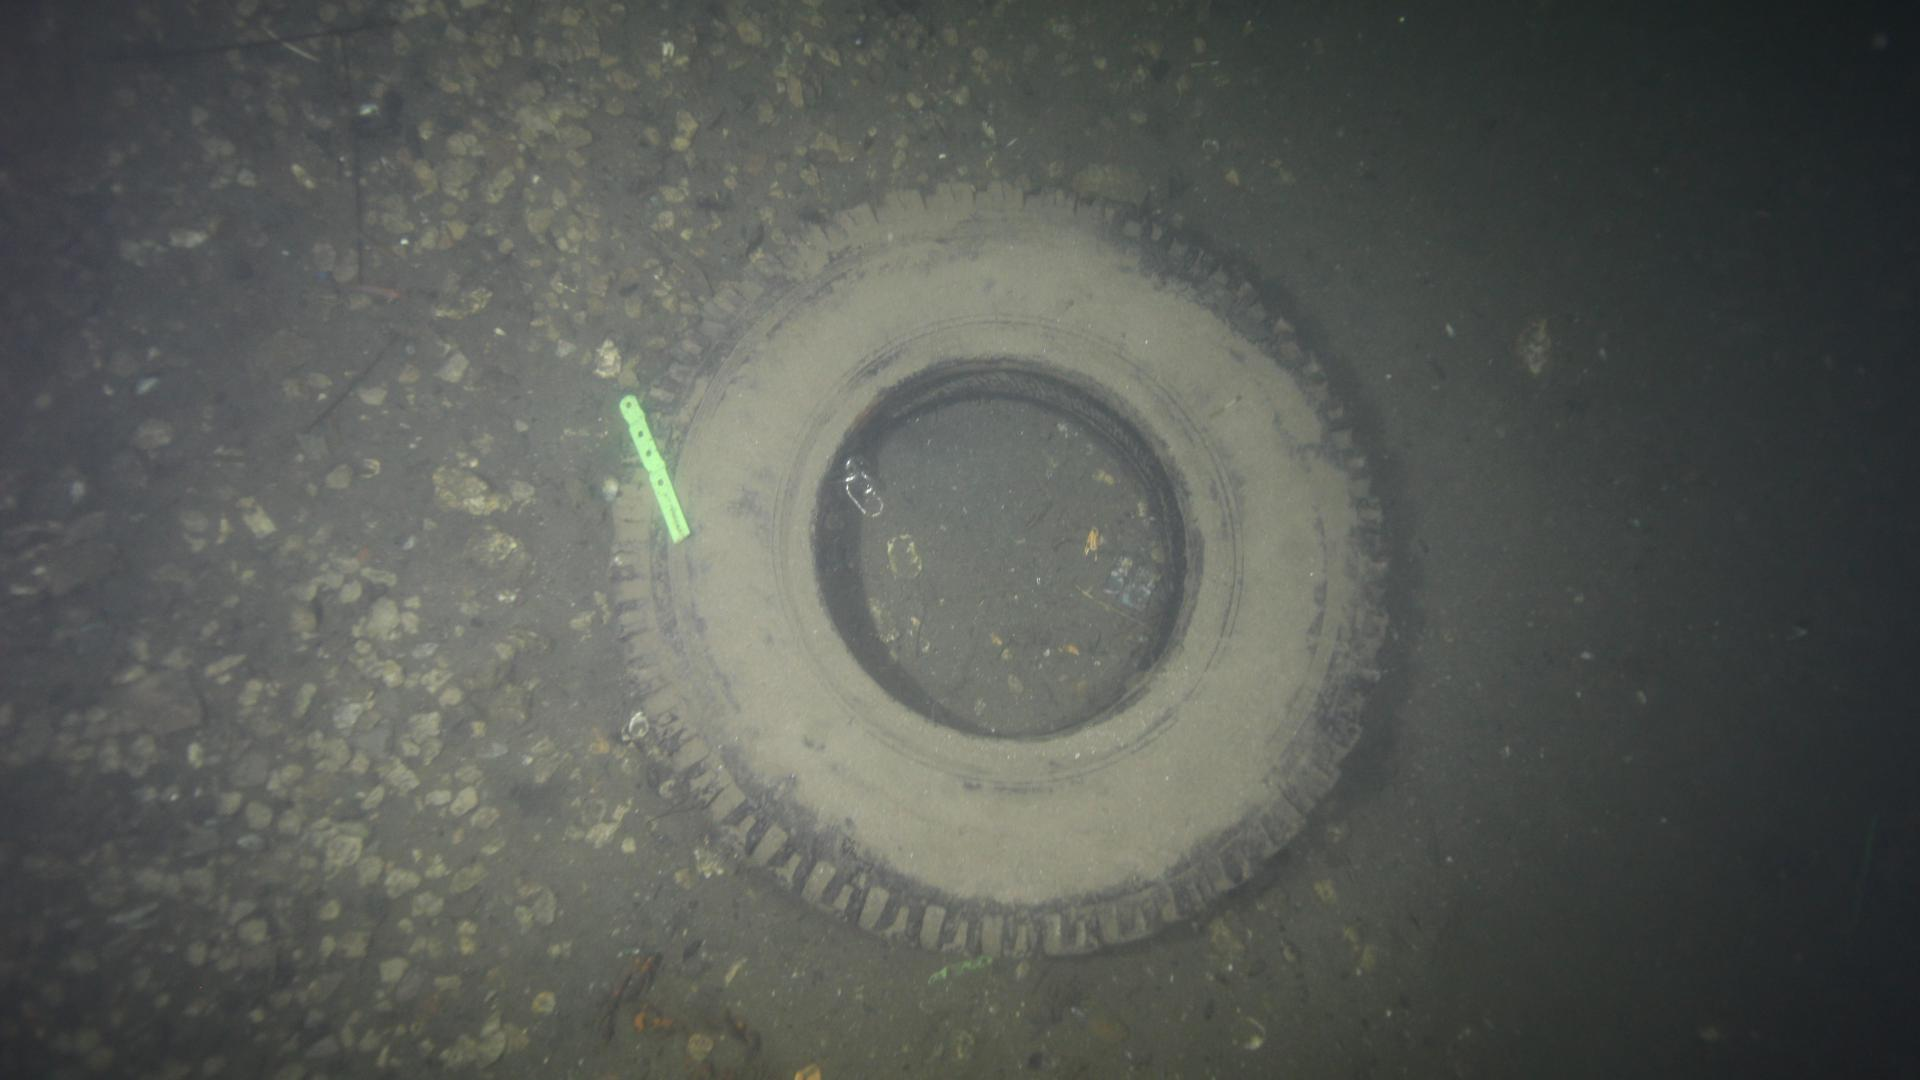tire: (611, 169, 1406, 957)
